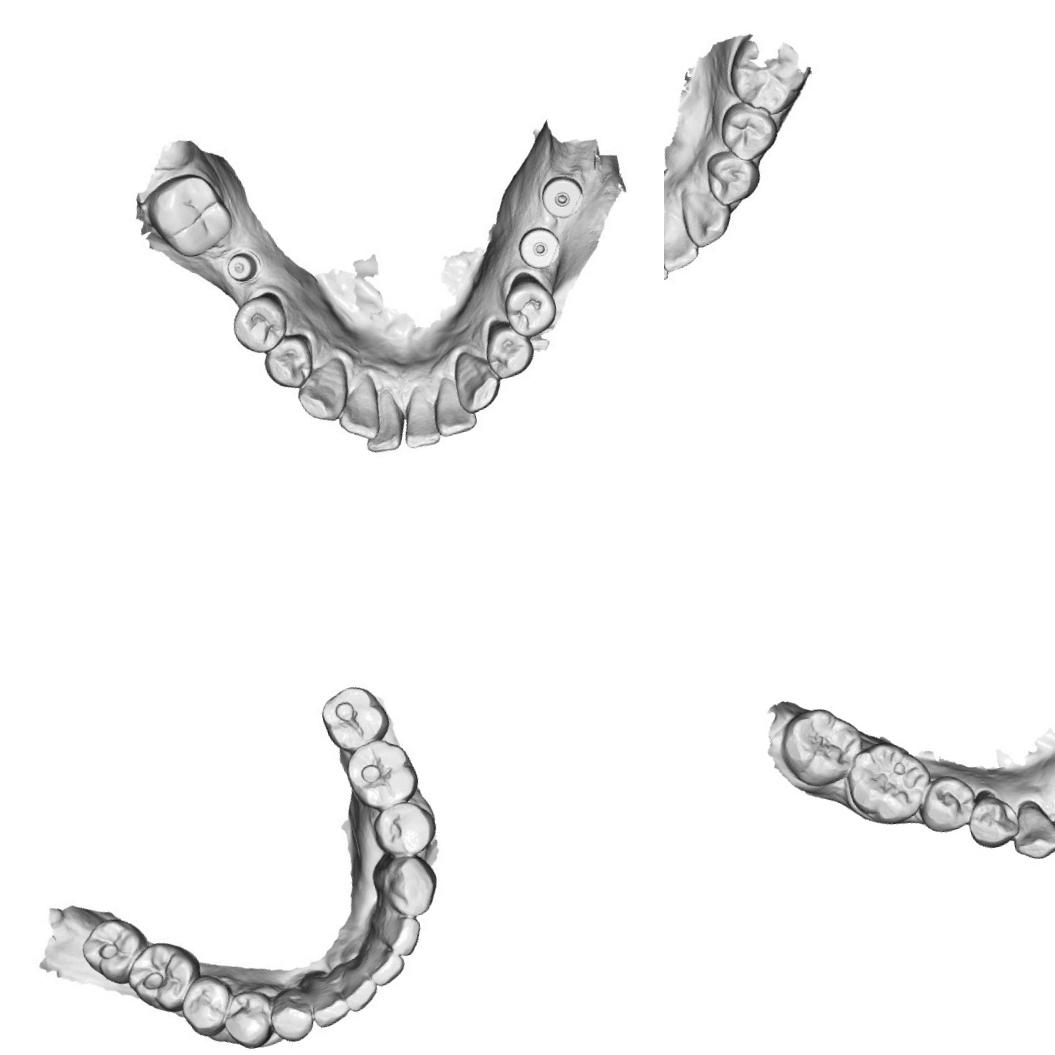canine: (368, 846, 446, 923), (676, 184, 734, 258), (288, 360, 351, 427), (1003, 794, 1055, 865), (450, 348, 506, 412), (267, 986, 318, 1046)
implant: (538, 169, 586, 222), (518, 223, 566, 271), (224, 248, 262, 283)
incisor: (394, 384, 444, 451), (428, 380, 480, 443), (334, 376, 385, 440), (358, 393, 407, 457), (380, 906, 431, 957), (336, 953, 382, 1009), (664, 202, 699, 267), (309, 975, 353, 1025), (362, 938, 407, 984)
molar: (836, 731, 936, 835), (146, 168, 242, 266), (720, 19, 811, 116), (777, 700, 870, 792), (123, 933, 208, 1020), (342, 733, 424, 814), (78, 908, 156, 989), (310, 680, 390, 756)
premolar: (914, 768, 983, 838), (714, 97, 781, 168), (367, 797, 439, 863), (175, 972, 239, 1045), (698, 144, 765, 211), (960, 784, 1024, 853), (498, 270, 560, 339), (226, 290, 292, 354), (220, 984, 280, 1054), (482, 316, 540, 384), (261, 335, 321, 396)
